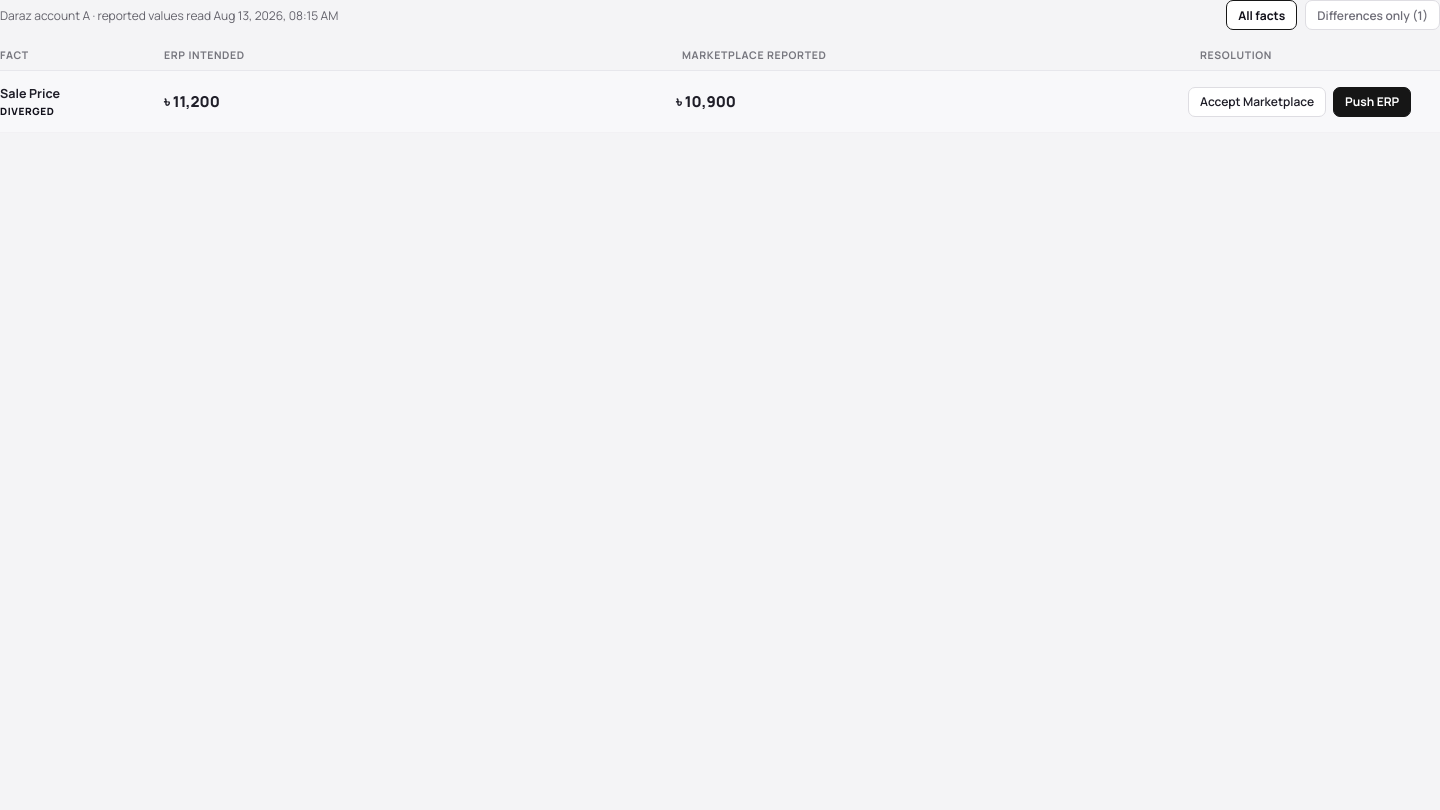
Test: Frame 08 — Resolution dialogs › changes nothing when the operator cancels
The image size is (1440, 810).
Click the button with test id "comparison-accept-sale_price".
click(1257, 102)  # box [1188, 86, 1326, 116]
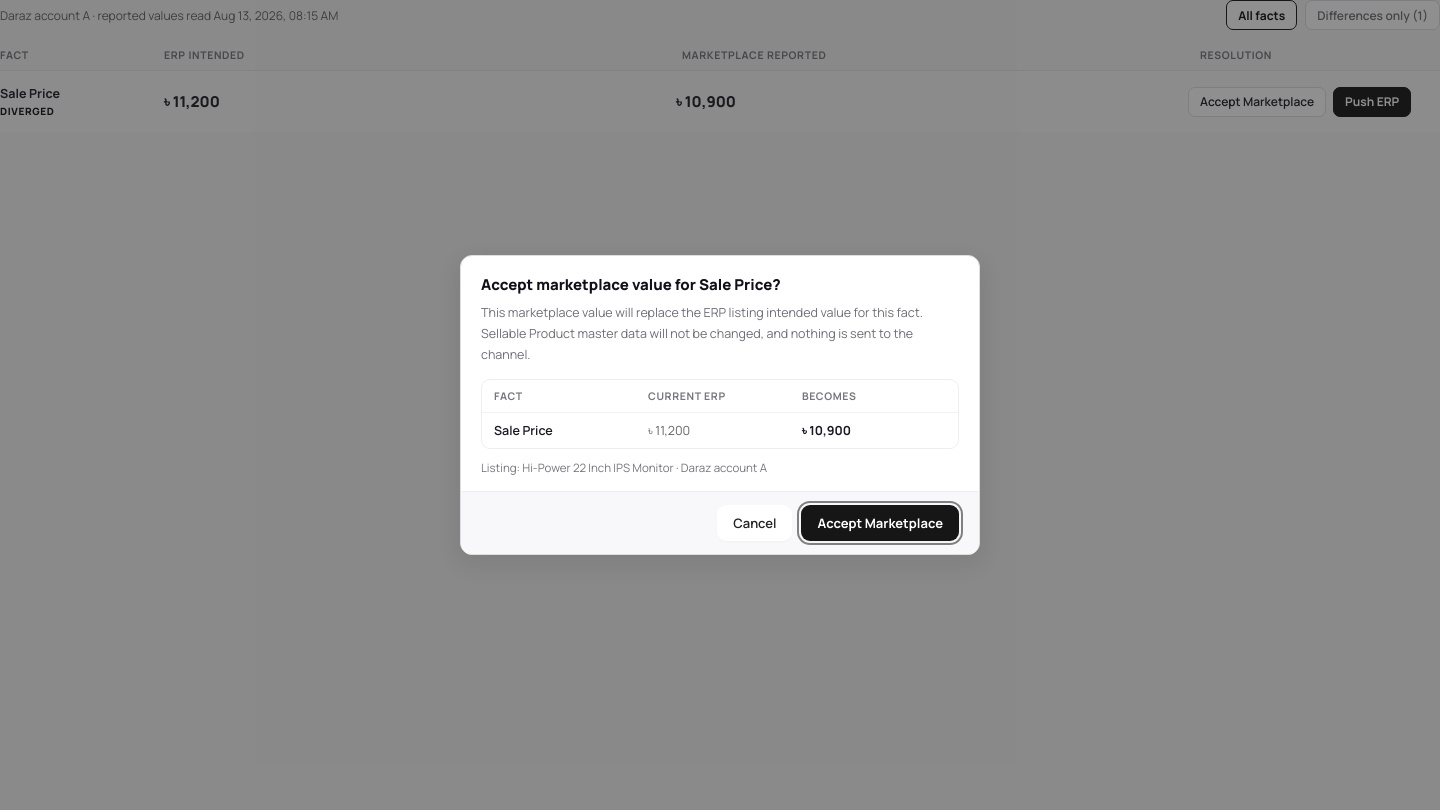
Click the button "Cancel".
click(755, 523)  # box [717, 505, 792, 541]
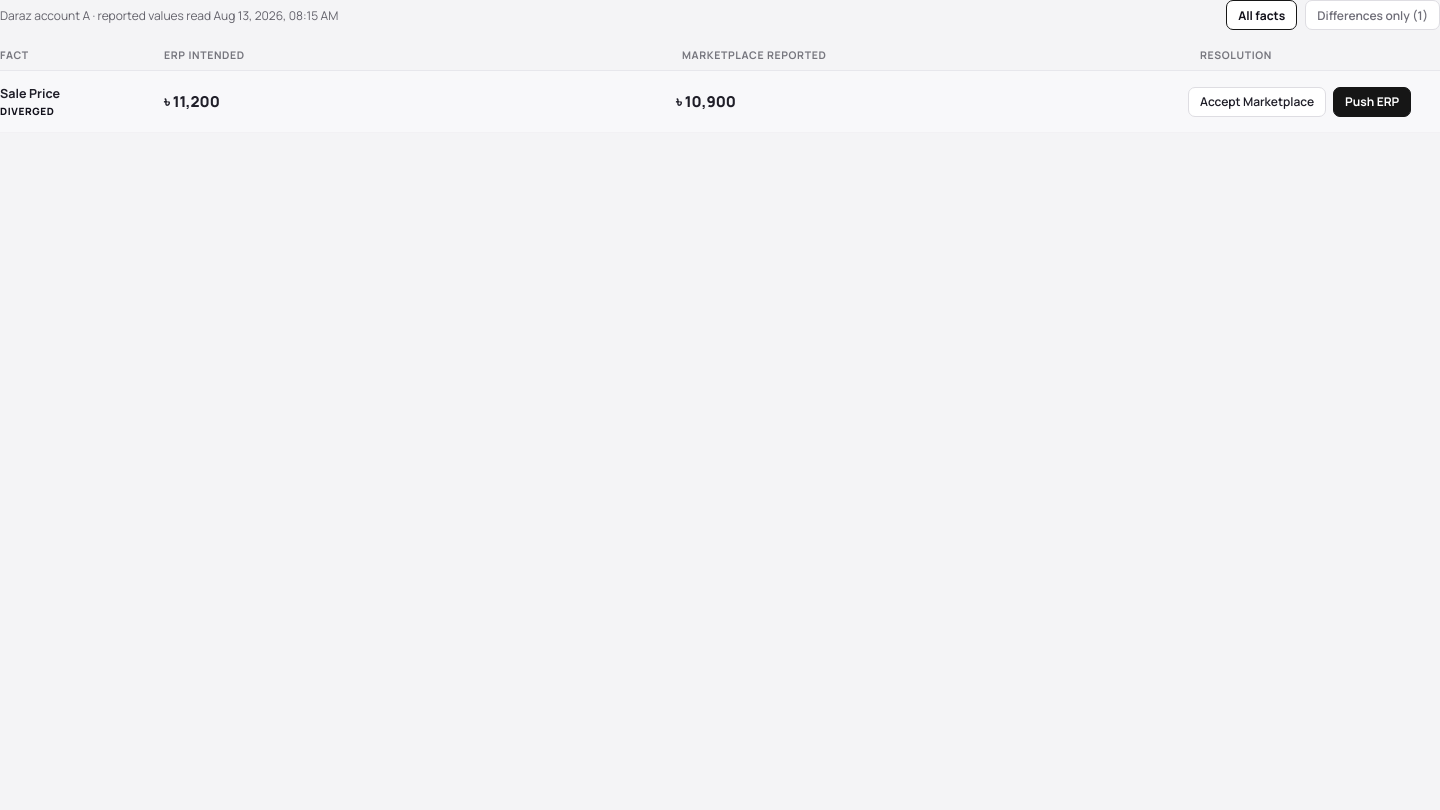
Expected: the dialog with test id "accept-marketplace-dialog" is gone
